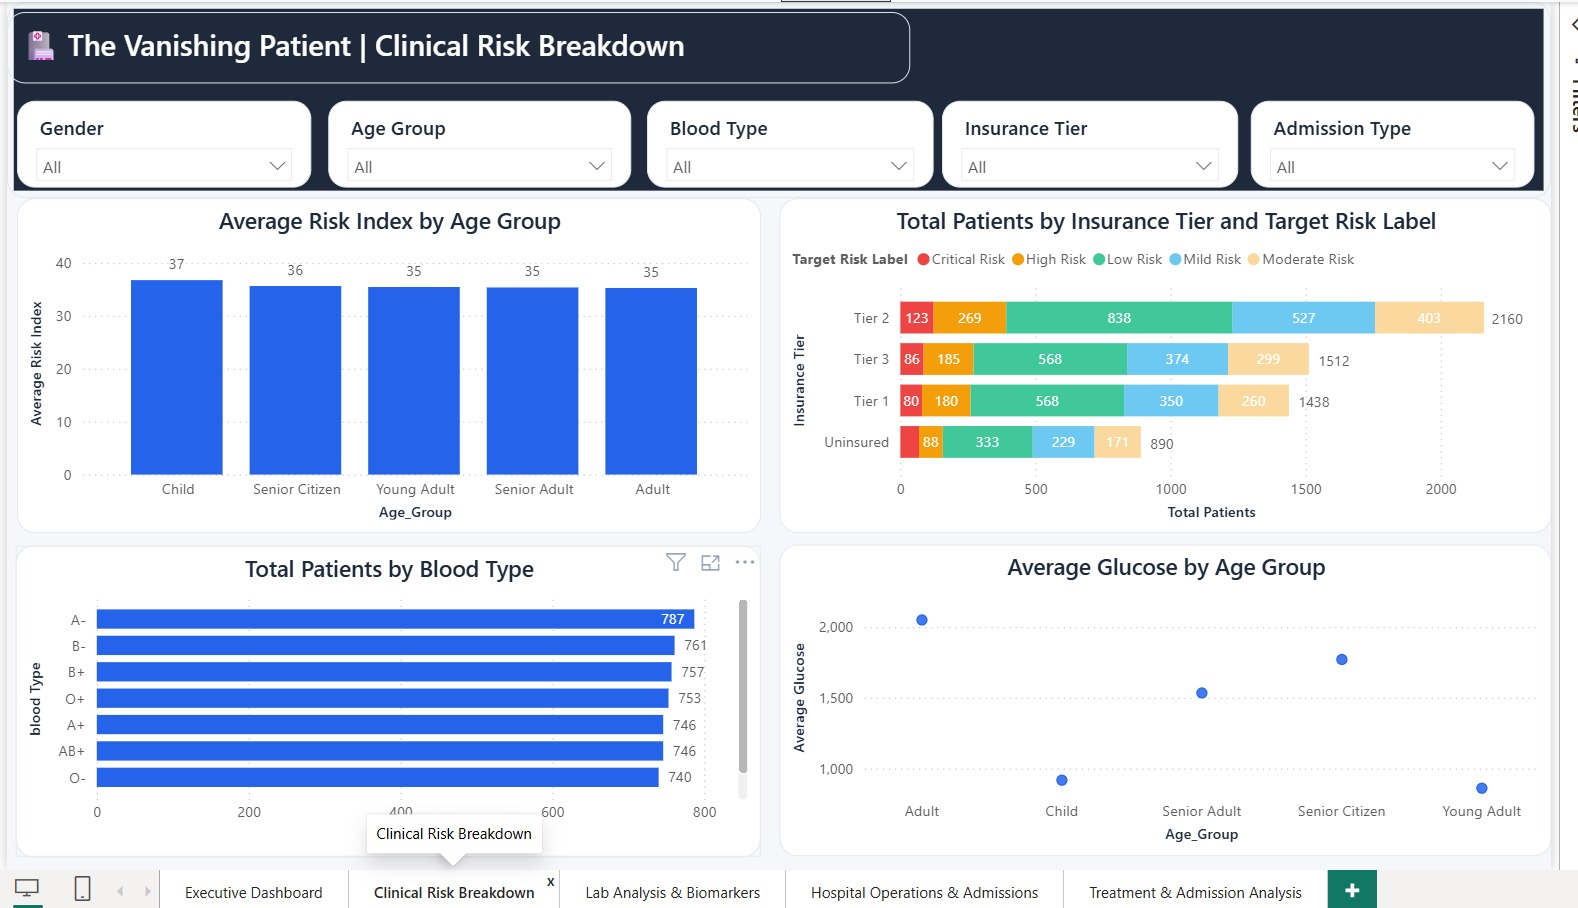

Layout of this report page (visuals, bound fields, positions):
{"tool":"powerbi","page":{"name":"Clinical Risk Breakdown","canvas":[1280,720],"ordinal":1},"visuals":[{"type":"shape","box":[0,0,1280.2,162.8],"z":0},{"type":"textbox","box":[0,8.1,748.8,59.3],"z":1000},{"type":"slicer","fields":{"Values":["train_feature_engineered.Gender_Label"]},"box":[8.1,81.4,244.2,72.1],"z":1001},{"type":"slicer","fields":{"Values":["train_feature_engineered.Age_Group"]},"box":[266.3,81.4,251.2,72.1],"z":1002},{"type":"slicer","fields":{"Values":["train_feature_engineered.blood Type"]},"box":[530.2,81.4,237.2,72.1],"z":1003},{"type":"slicer","fields":{"Values":["train_feature_engineered.Insurance Tier"]},"box":[775.6,81.4,245.3,72.1],"z":1004},{"type":"slicer","fields":{"Values":["train_feature_engineered.Adminssion Type"]},"box":[1031.4,81.4,234.9,72.1],"z":1005},{"type":"clusteredColumnChart","title":"Average Risk Index by Age Group","fields":{"Category":["train_feature_engineered.Age_Group"],"Y":["train_feature_engineered.Average Risk Index"]},"box":[8.7,162.5,616.6,277.9],"z":1006},{"type":"clusteredBarChart","title":"Total Patients by Blood Type","fields":{"Category":["train_feature_engineered.blood Type"],"Y":["train_feature_engineered.Total Patients"]},"box":[7.4,450.3,617.8,258],"z":1007},{"type":"barChart","fields":{"Category":["train_feature_engineered.Insurance Tier"],"Y":["train_feature_engineered.Total Patients"],"Series":["train_feature_engineered.Target Risk Label"]},"box":[640.1,162.5,640.1,277.9],"z":1008},{"type":"scatterChart","title":"Average Glucose by Age Group","fields":{"X":["train_feature_engineered.Age_Group"],"Y":["train_feature_engineered.Average Glucose"]},"box":[640,450,640,258],"z":1009}]}

Visuals, with their boxes on the page's 1280x720 design canvas (x1, y1, x2, y2). These are canvas units, not pixel positions in the 1578x908 screenshot, which may show the page scaled, cropped or inside an application window:
shape: select_region(0, 0, 1280, 163)
textbox: select_region(0, 8, 749, 67)
slicer - train_feature_engineered.Gender_Label: select_region(8, 81, 252, 154)
slicer - train_feature_engineered.Age_Group: select_region(266, 81, 518, 154)
slicer - train_feature_engineered.blood Type: select_region(530, 81, 767, 154)
slicer - train_feature_engineered.Insurance Tier: select_region(776, 81, 1021, 154)
slicer - train_feature_engineered.Adminssion Type: select_region(1031, 81, 1266, 154)
"Average Risk Index by Age Group" clusteredColumnChart: select_region(9, 162, 625, 440)
"Total Patients by Blood Type" clusteredBarChart: select_region(7, 450, 625, 708)
barChart - train_feature_engineered.Insurance Tier x train_feature_engineered.Total Patients: select_region(640, 162, 1280, 440)
"Average Glucose by Age Group" scatterChart: select_region(640, 450, 1280, 708)
